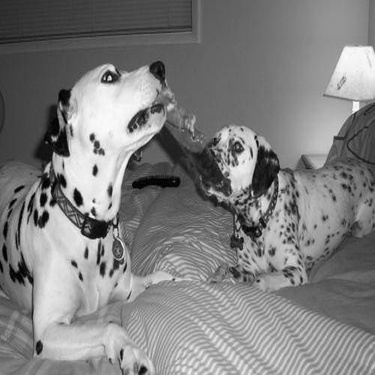dog: (4, 52, 180, 373), (179, 111, 374, 288)
